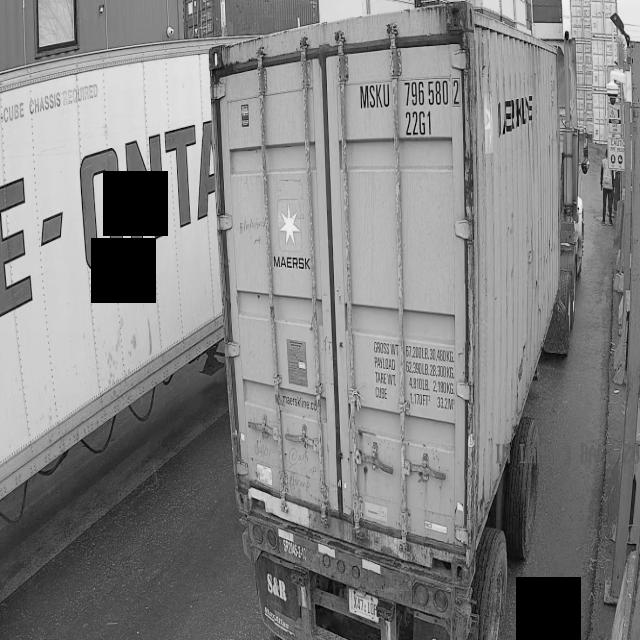container_company_logo: (273, 192, 312, 274)
container_number: (357, 75, 470, 141)
driver: (600, 151, 614, 224)
license_plate: (347, 585, 384, 621)
other_container_info: (368, 337, 459, 422)
truck_with_container: (210, 2, 589, 640), (0, 41, 221, 499)
